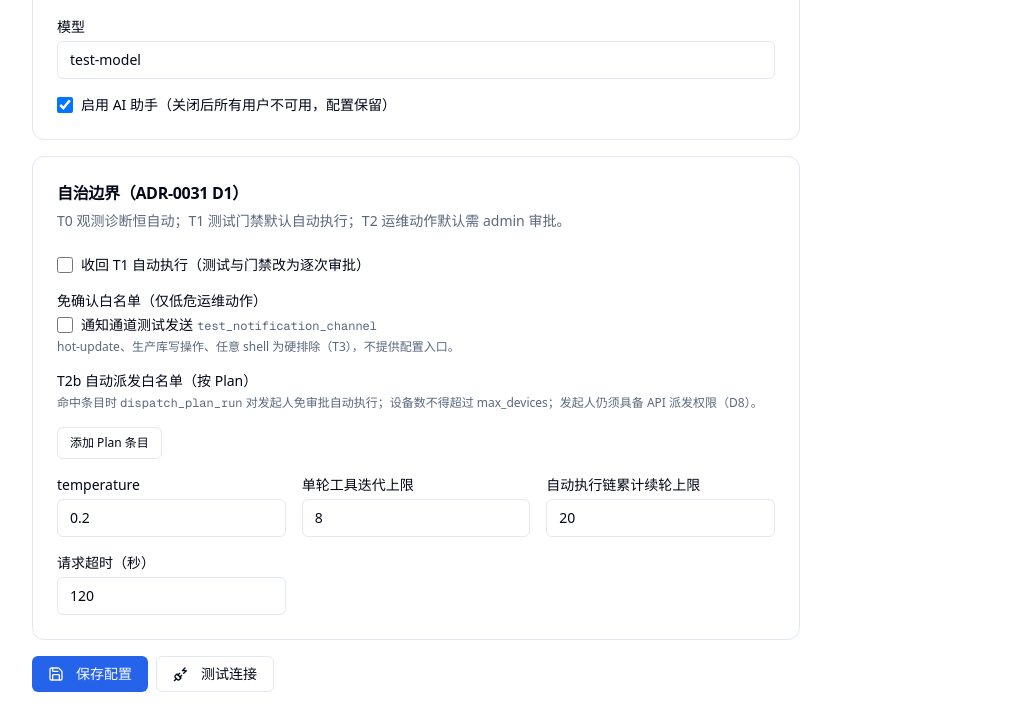
Test: AiAssistantSettingsPage › 保存成功后用服务端白名单回填表单（#757）
(page scrolled)
Click the button "添加 Plan 条目". click: point(109, 443)
box: [57,427,162,459]
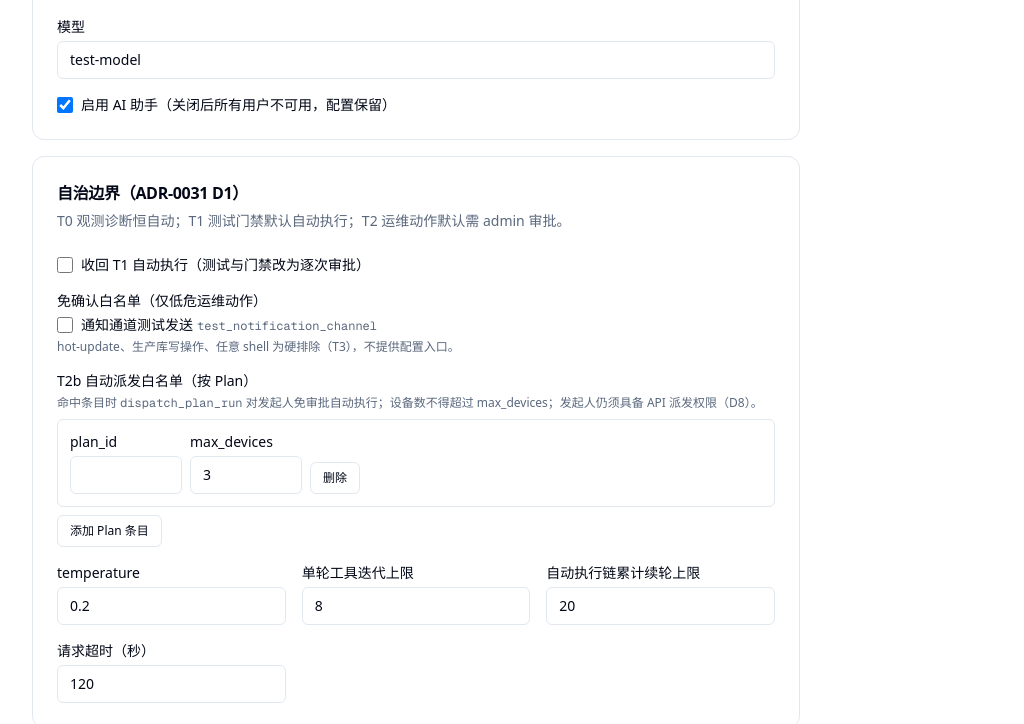
Type "7" into the number field labelled "plan_id". click: point(126, 475)
box: [70,456,182,494]
(page scrolled)
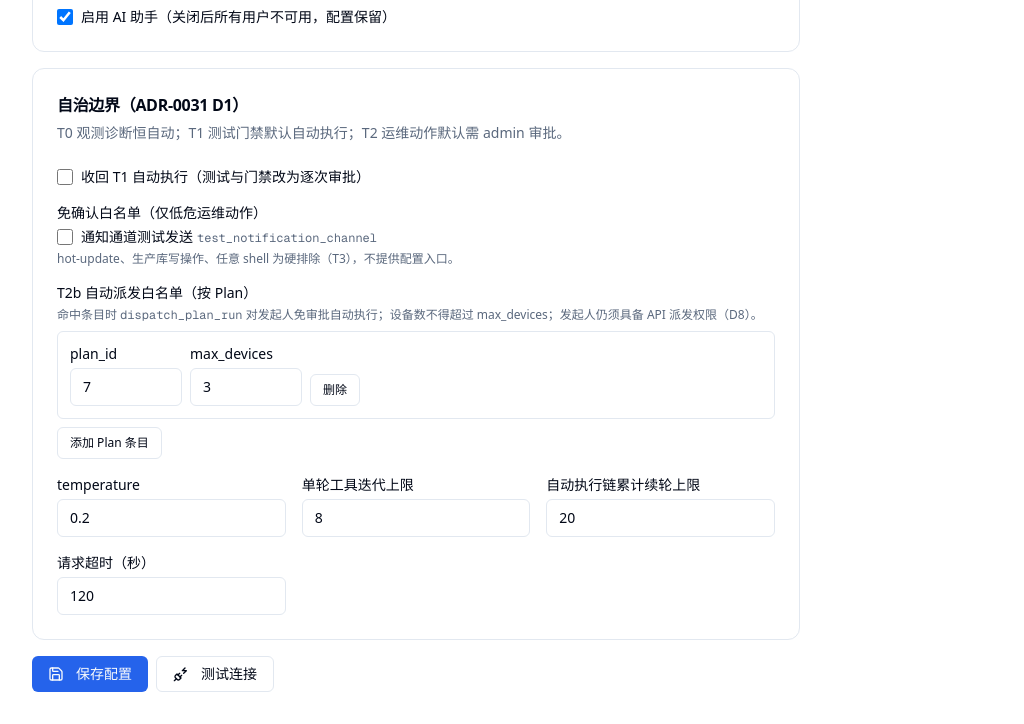
Click the button "保存配置". click: point(90, 674)
box: [32,656,148,692]
(page scrolled)
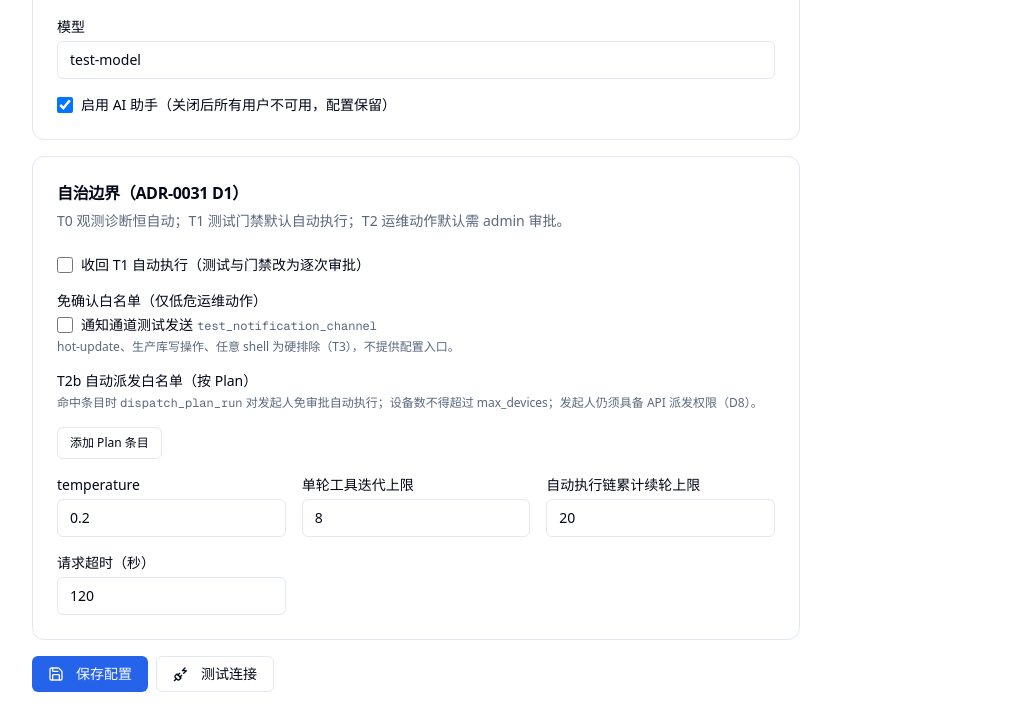
expect the label labelled "plan_id" is gone: met
